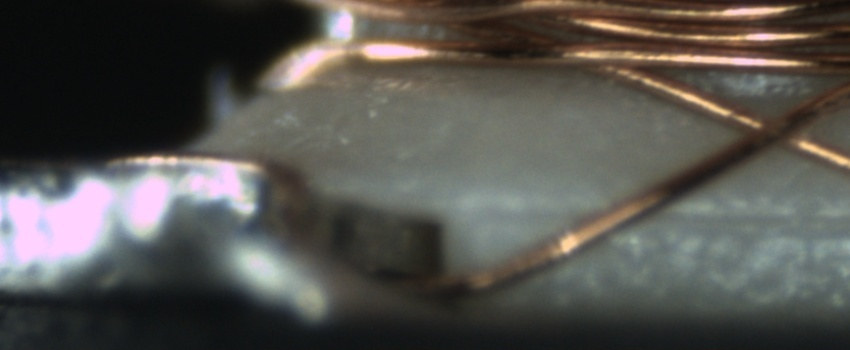CL: (726, 97, 830, 160)
DL: (460, 185, 850, 249)
TE: (101, 150, 309, 199)
